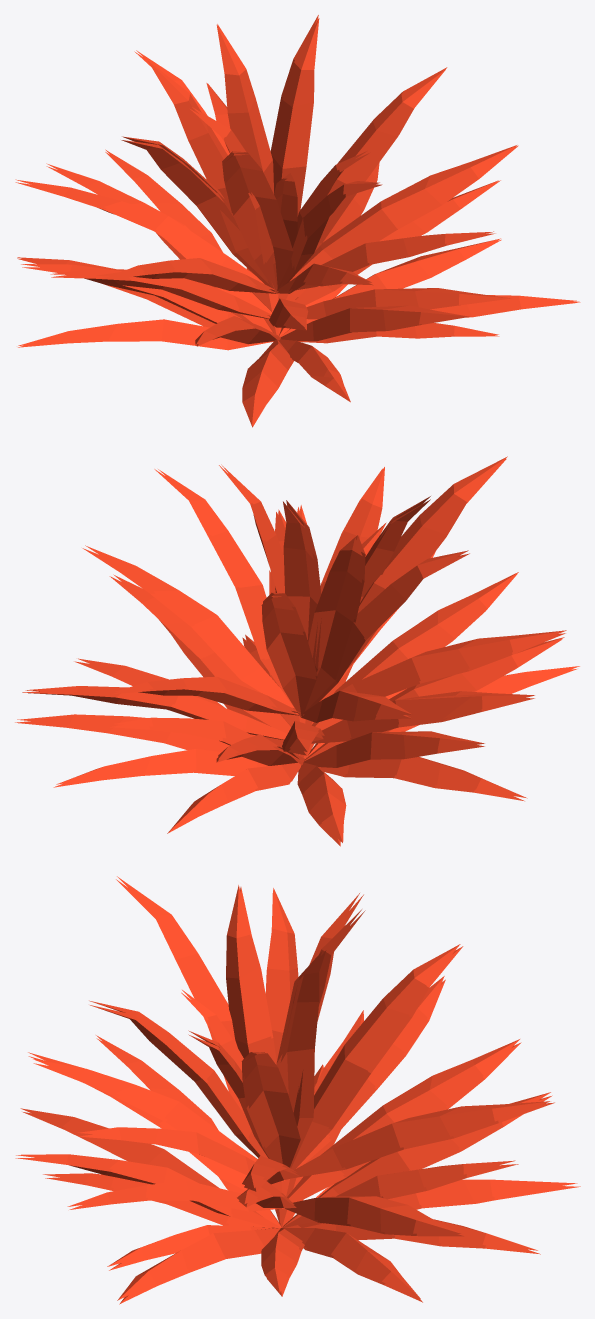
The model's file is SM_Plant_Yucca_A.fbx.
The picture shows the model from 3 angles, top to bottom: view 1: azimuth 30°, elevation 25°; view 2: azimuth 150°, elevation 25°; view 3: azimuth 270°, elevation 25°; orthographic projection. The views are drawn at different scales.
Parts seen in each view (by area): view 1: SM_Plant_Yucca_A; view 2: SM_Plant_Yucca_A; view 3: SM_Plant_Yucca_A.
Part boxes in pixels (x1,y1,x2,y2): SM_Plant_Yucca_A: (15, 15, 580, 427); SM_Plant_Yucca_A: (15, 456, 579, 846); SM_Plant_Yucca_A: (15, 876, 580, 1304).
Size of the model in its own units: 1.72 by 1.04 by 1.7.
